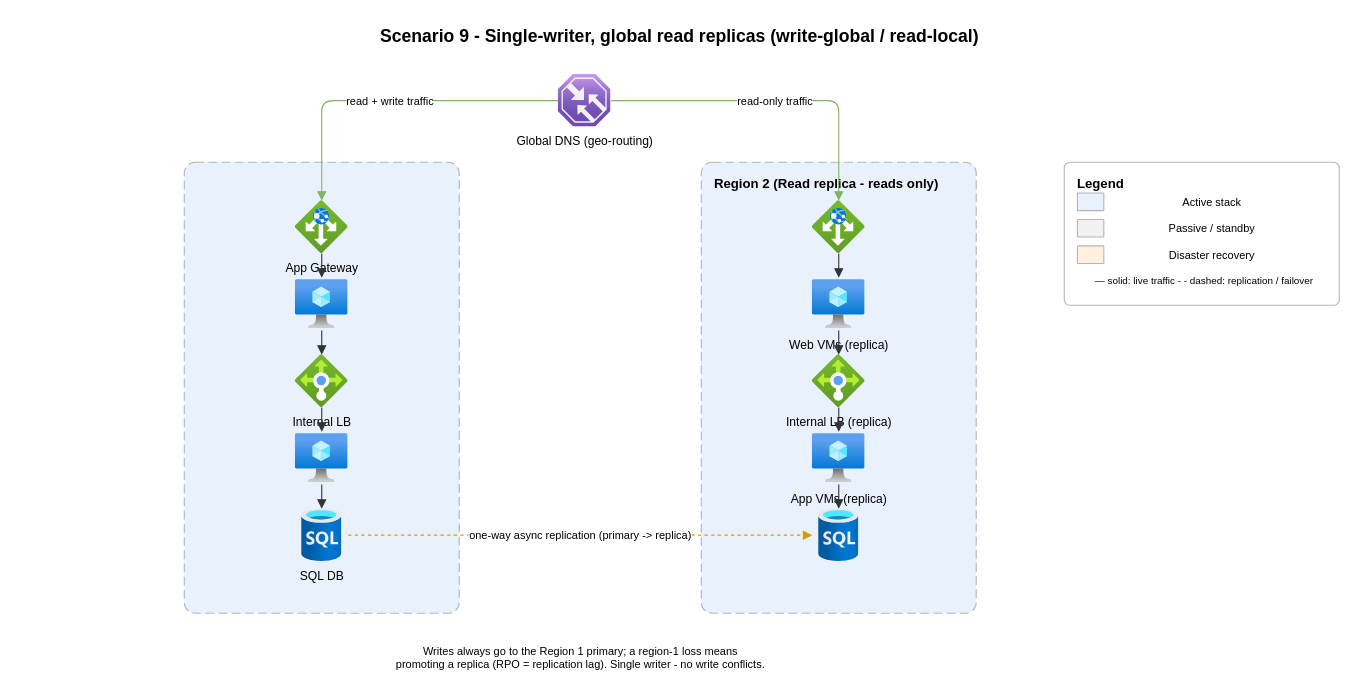
This 1359x697 diagram has some shape labels left out. Each missing label, with the box of its shape:
App Gateway (replica): (812, 200, 865, 253)
App VMs: (295, 431, 348, 484)
Region 1 (Primary - reads + writes): (183, 161, 459, 613)
SQL DB (replica): (812, 508, 865, 561)
Web VMs: (295, 277, 348, 330)
